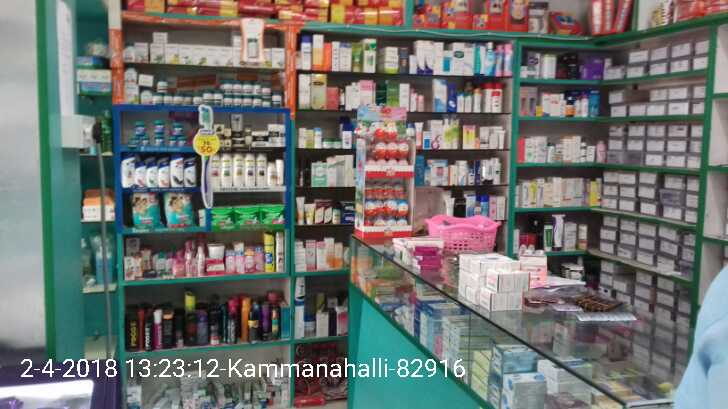vicks: (128, 135, 189, 147), (153, 119, 165, 133), (170, 119, 182, 132), (135, 119, 146, 133)
